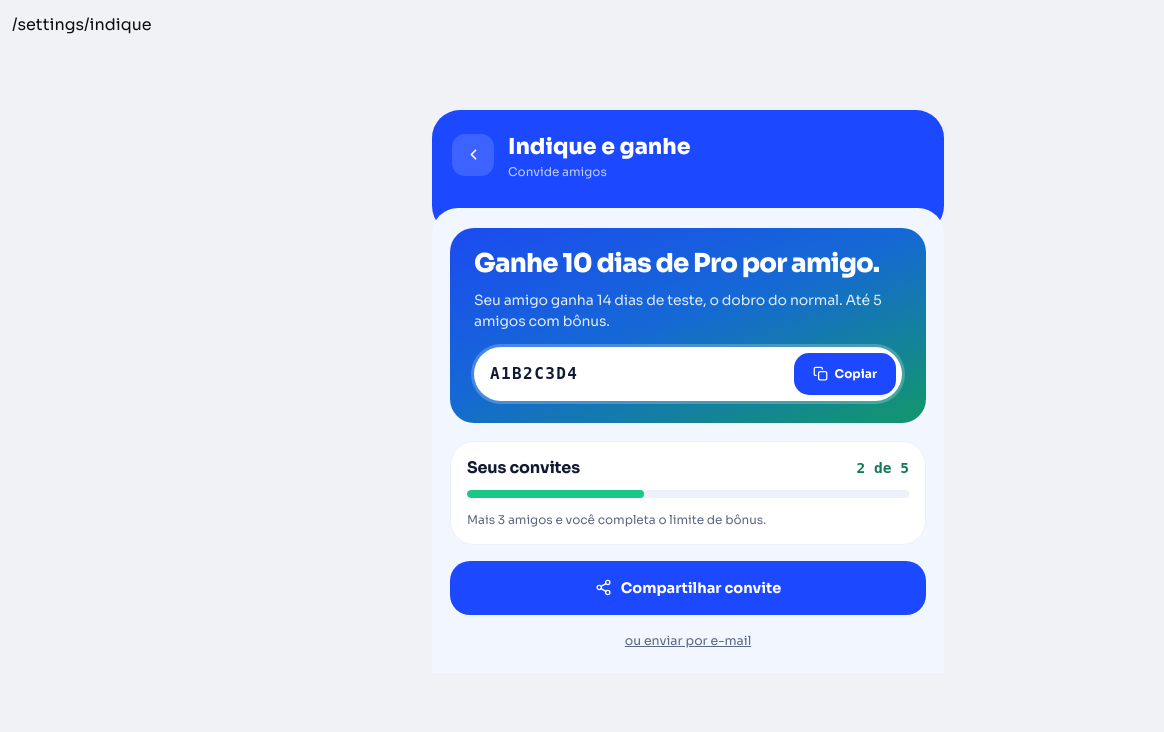
Indique e ganhe › Copiar copia o LINK de cadastro com o código e confirma com "Copiado!"
Click the button "Copiar": point(845, 374) x1=794 y1=353 x2=896 y2=395
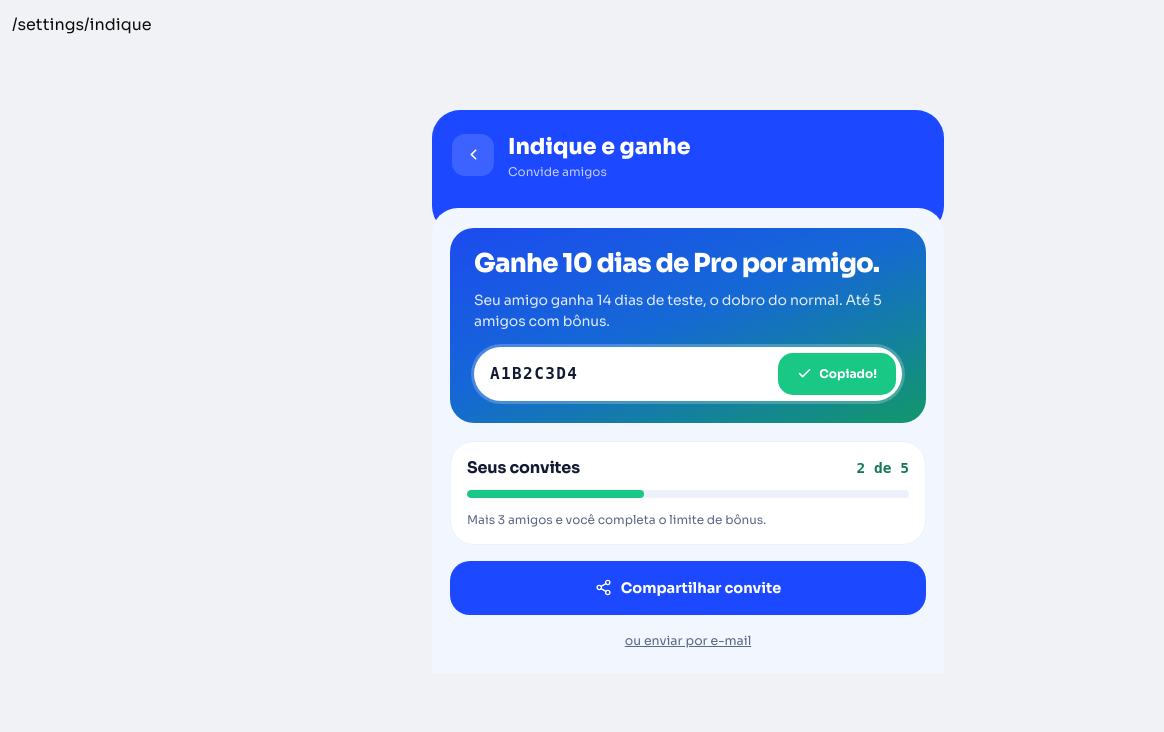
expect the button "Copiado!" is shown: met, box x1=778 y1=353 x2=896 y2=395
